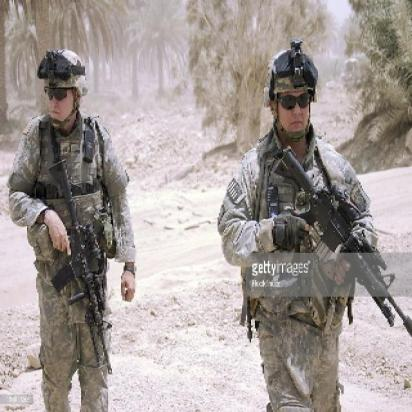Gun: (265, 140, 411, 339), (27, 150, 122, 378)
